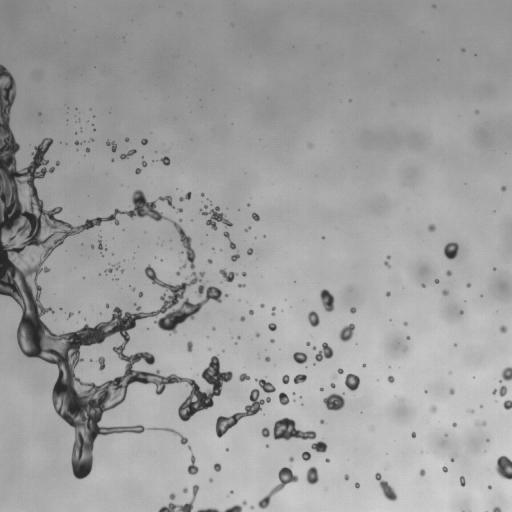droplet: (158, 485, 199, 511), (199, 205, 232, 230), (495, 455, 511, 480), (323, 393, 345, 410), (315, 342, 333, 361), (320, 289, 334, 311), (339, 323, 355, 341), (255, 379, 275, 393), (443, 242, 458, 259), (345, 373, 359, 391), (187, 454, 199, 474), (219, 269, 237, 282), (306, 466, 318, 484), (310, 440, 327, 452), (499, 366, 511, 382), (308, 311, 319, 326), (492, 385, 507, 396), (293, 352, 307, 363), (278, 392, 289, 405), (293, 374, 306, 383), (106, 140, 116, 151), (160, 156, 170, 165), (301, 451, 310, 461), (239, 373, 249, 381), (230, 253, 239, 261), (503, 400, 511, 409), (282, 374, 289, 384), (268, 323, 276, 331), (499, 325, 507, 333), (213, 463, 221, 471), (252, 212, 259, 221), (459, 476, 465, 486), (229, 241, 236, 249), (387, 375, 394, 383), (428, 224, 435, 231), (429, 405, 436, 412), (492, 506, 501, 511), (141, 138, 147, 145), (247, 248, 253, 255), (419, 469, 425, 476), (224, 231, 229, 239), (135, 168, 141, 174), (442, 289, 448, 295), (350, 307, 356, 313), (142, 160, 147, 167), (237, 283, 245, 287), (446, 270, 452, 275), (68, 312, 73, 318), (449, 388, 454, 394), (442, 466, 447, 472), (344, 474, 349, 480), (182, 487, 187, 493), (501, 186, 506, 191), (265, 356, 270, 361), (338, 368, 343, 373), (330, 383, 335, 388), (176, 208, 182, 212), (468, 409, 474, 413), (289, 456, 293, 462), (355, 482, 359, 488), (75, 141, 80, 145), (86, 148, 90, 153), (245, 227, 250, 231), (386, 291, 390, 296), (138, 292, 142, 297), (240, 316, 244, 321), (452, 422, 456, 427), (411, 432, 415, 437), (450, 457, 455, 461), (125, 137, 129, 141), (308, 143, 312, 147), (208, 259, 212, 263), (242, 272, 246, 276), (466, 283, 470, 287), (260, 303, 264, 307), (249, 310, 253, 314), (459, 310, 463, 314), (270, 339, 274, 343), (306, 341, 310, 345), (312, 346, 316, 350), (333, 374, 337, 378), (320, 419, 324, 423), (325, 458, 329, 462), (461, 48, 465, 51), (37, 112, 41, 115), (435, 279, 438, 283), (421, 284, 425, 287), (404, 321, 407, 325), (255, 333, 259, 336), (188, 446, 191, 450), (475, 110, 478, 113), (56, 161, 59, 164), (201, 193, 204, 196), (91, 245, 94, 248), (132, 287, 135, 290), (320, 387, 323, 390), (209, 478, 212, 481), (488, 485, 491, 488), (250, 506, 253, 509), (111, 159, 114, 161), (247, 203, 249, 206), (322, 236, 324, 239), (225, 294, 227, 297), (212, 327, 215, 329), (237, 336, 240, 338), (407, 336, 409, 339), (362, 364, 365, 366), (486, 439, 489, 441), (266, 444, 268, 447), (226, 448, 228, 451), (230, 490, 232, 493), (433, 5, 435, 7), (454, 344, 456, 346), (90, 359, 92, 361), (152, 427, 154, 429)
ligament: (0, 64, 232, 479), (215, 389, 270, 437), (258, 467, 298, 508), (261, 417, 316, 440), (375, 472, 397, 501), (197, 500, 246, 511), (162, 428, 188, 444), (104, 263, 124, 273), (120, 149, 136, 159), (97, 356, 105, 371), (179, 192, 191, 201), (98, 240, 106, 250), (384, 255, 390, 267), (187, 341, 192, 352), (475, 421, 486, 425), (271, 306, 275, 315), (403, 346, 407, 351), (208, 199, 211, 203), (468, 510, 471, 511)
